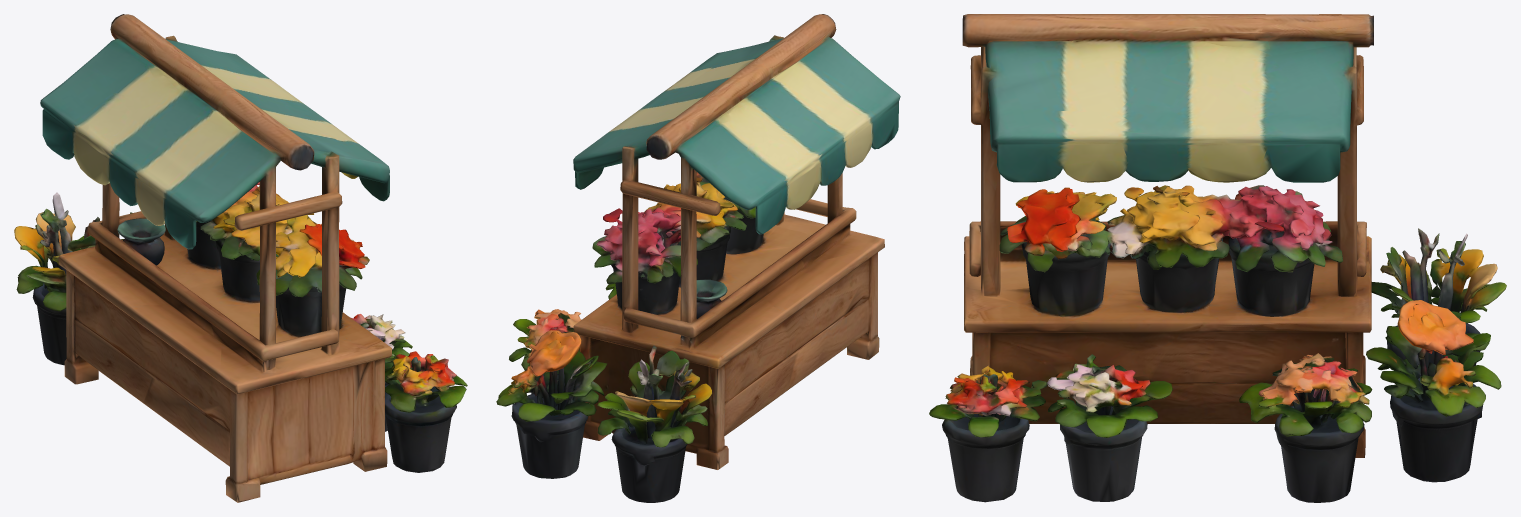
Rendered from plaza-stall-flower.glb.
The picture shows the model from 3 angles, left to right: view 1: azimuth 30°, elevation 25°; view 2: azimuth 150°, elevation 25°; view 3: azimuth 270°, elevation 25°; orthographic projection. The views are drawn at different scales.
Parts seen in each view (by area): view 1: tripo_node_9c407f6e-0b3d-45d8-8b4d-7dc7bef2660f; view 2: tripo_node_9c407f6e-0b3d-45d8-8b4d-7dc7bef2660f; view 3: tripo_node_9c407f6e-0b3d-45d8-8b4d-7dc7bef2660f.
Boxes of the visible parts, bbox=[...] form: tripo_node_9c407f6e-0b3d-45d8-8b4d-7dc7bef2660f: bbox=[14, 14, 467, 502]; tripo_node_9c407f6e-0b3d-45d8-8b4d-7dc7bef2660f: bbox=[496, 14, 900, 502]; tripo_node_9c407f6e-0b3d-45d8-8b4d-7dc7bef2660f: bbox=[929, 14, 1506, 502].
Size of the model in its own units: 1.59 by 2 by 2.58.
Materials: 1 (1 with a texture image).
